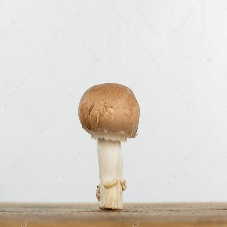mushroom: (77, 79, 144, 213)
